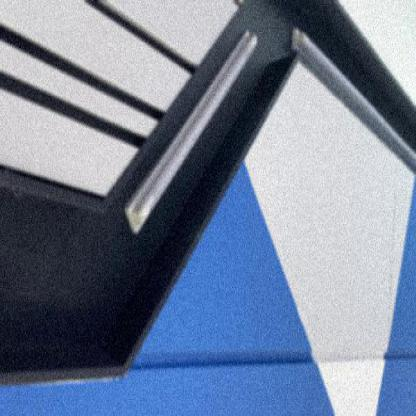light_off: (121, 16, 264, 249), (287, 15, 415, 210)
